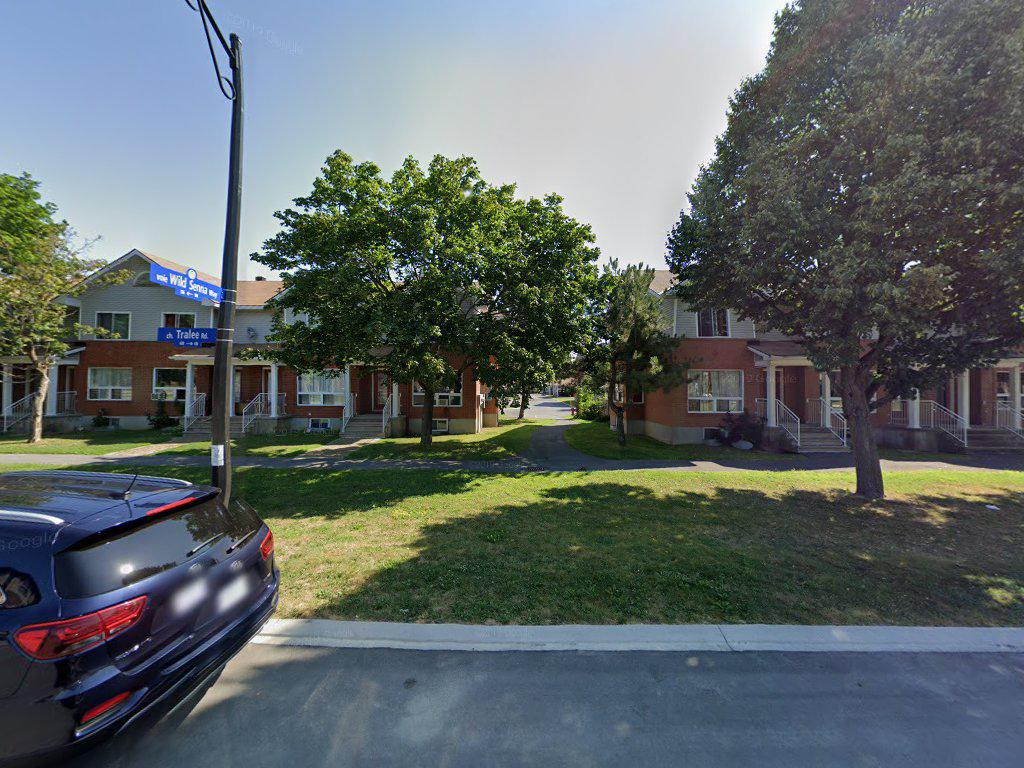trunk: (840, 347, 890, 515), (412, 365, 444, 455), (29, 361, 49, 448)
